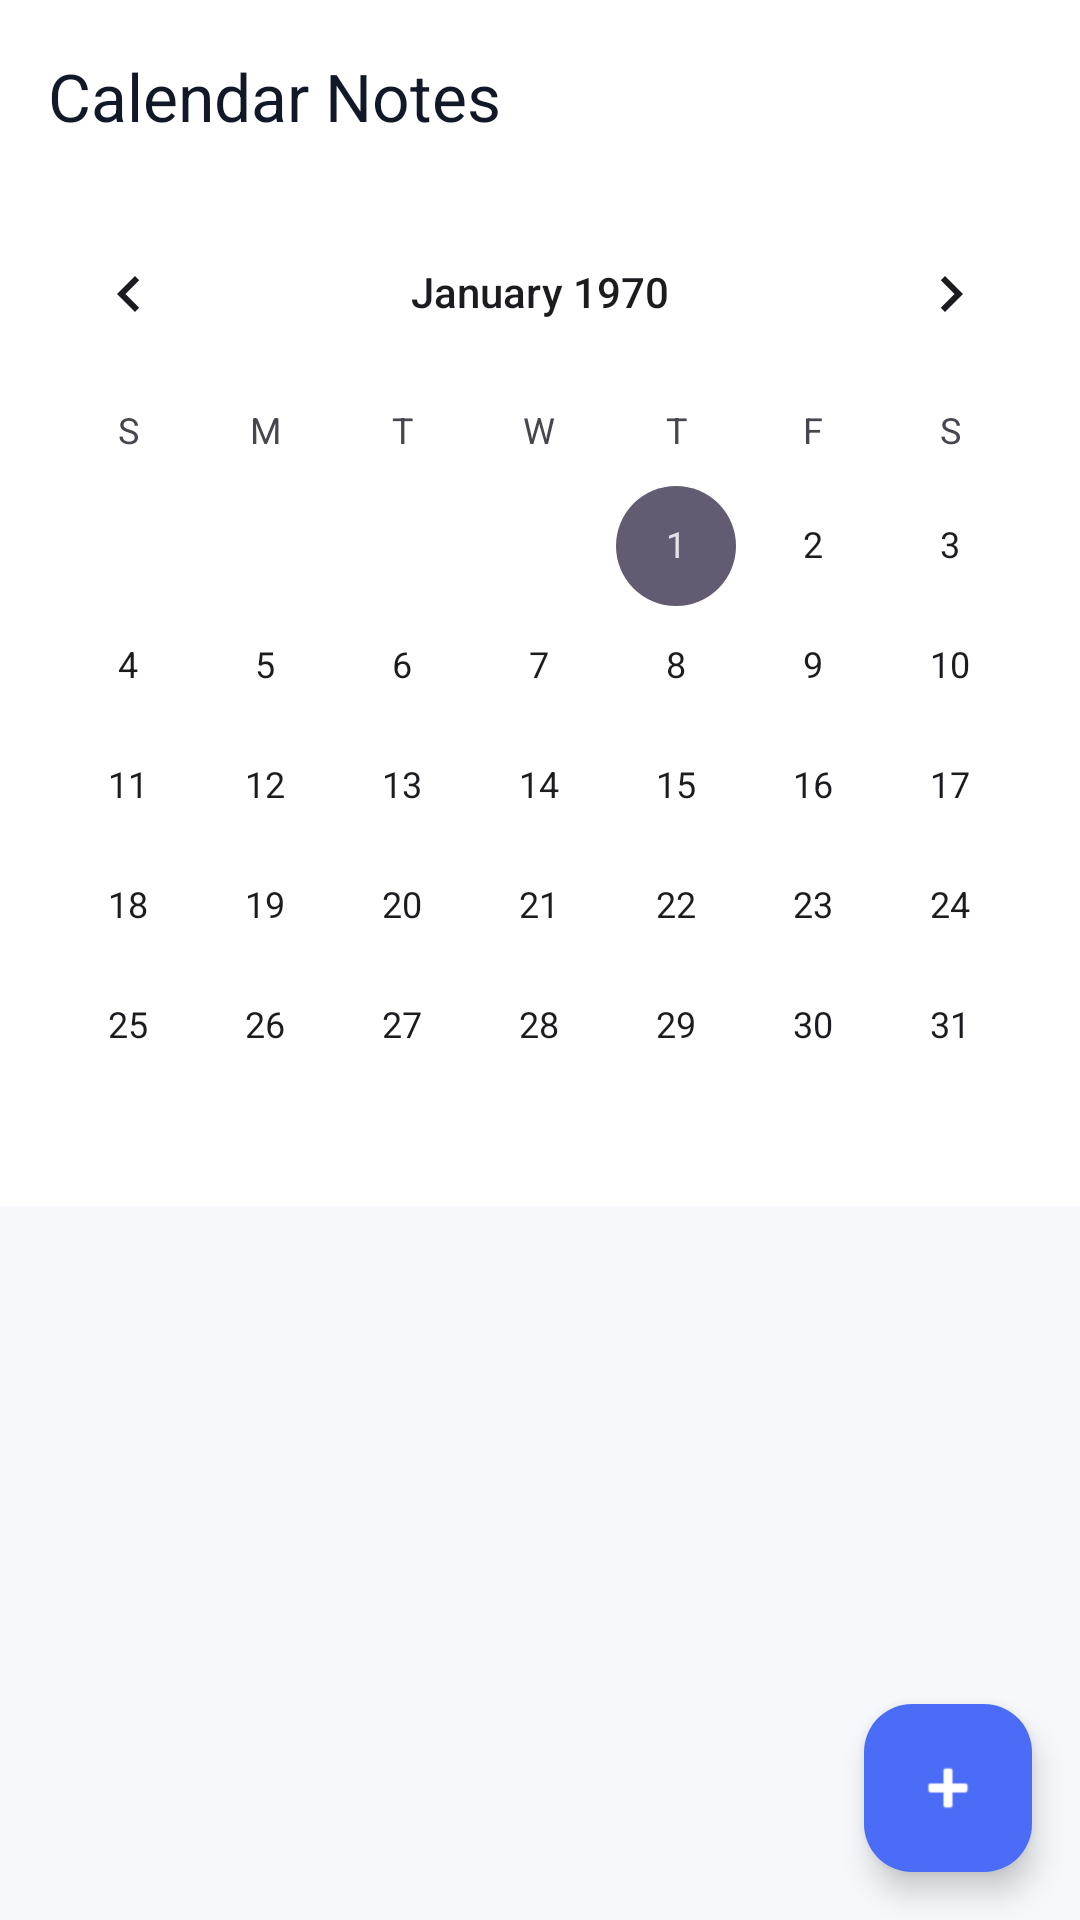

Point at icon controls on the screen. Image size 1080px x 1920px, points as point (x, y).
Add Note: point (948, 1788)
